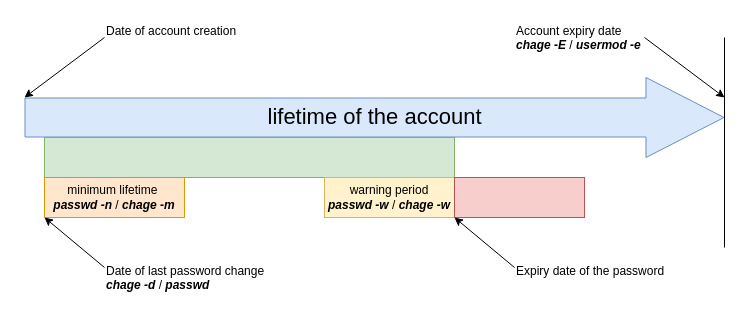
Some shapes in this 750 by 310 pixel diagram are drawn without their labels. Here are the shapes that lost their labels. From the top down, the box of each, then its label:
(44, 136, 454, 178): maximum lifetime passwd -x / chage -M
(454, 176, 584, 218): delay before deactivation passwd -i / chage -I
